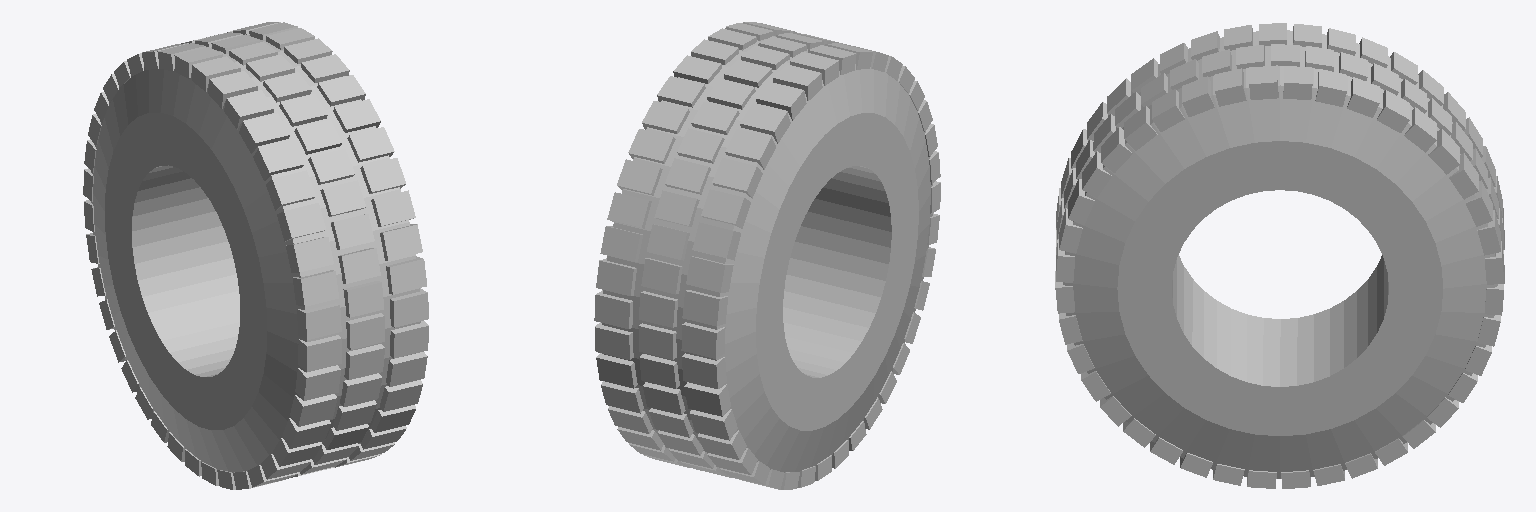
File: ruoteA1.obj
3 renders of one model, left to right at view 1: azimuth 30°, elevation 25°; view 2: azimuth 150°, elevation 25°; view 3: azimuth 270°, elevation 25°, orthographic.
Parts seen in each view (by area): view 1: Tube10, Box1136; view 2: Tube10, Box1136; view 3: Tube10, Box1136.
Boxes of the visible parts, x1=… form: Tube10: x1=91, y1=35, x2=420, y2=472; Box1136: x1=83, y1=22, x2=428, y2=489; Tube10: x1=602, y1=36, x2=932, y2=472; Box1136: x1=594, y1=22, x2=940, y2=489; Tube10: x1=1063, y1=30, x2=1497, y2=478; Box1136: x1=1055, y1=23, x2=1504, y2=488.
Bounding box in the file's own units: 4.33 × 12.07 × 12.07.